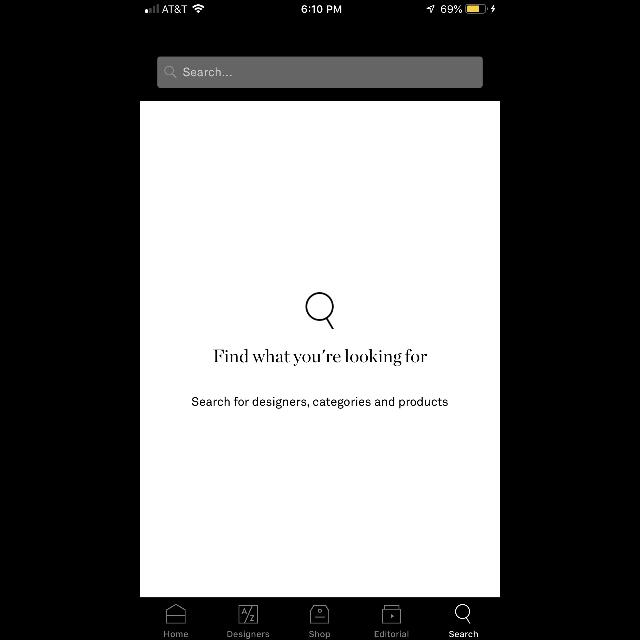icon: (306, 292, 334, 328), (167, 604, 186, 624), (382, 605, 402, 623), (456, 604, 470, 624), (165, 66, 178, 78)
image: (238, 605, 258, 623), (310, 605, 330, 623)
input: (158, 56, 482, 88)
text: (213, 349, 427, 366), (192, 397, 448, 409), (183, 68, 231, 76), (227, 631, 269, 639), (375, 630, 409, 638), (448, 630, 478, 638), (310, 631, 330, 639), (164, 631, 188, 637)
uppertaskbar: (140, 0, 500, 14)
